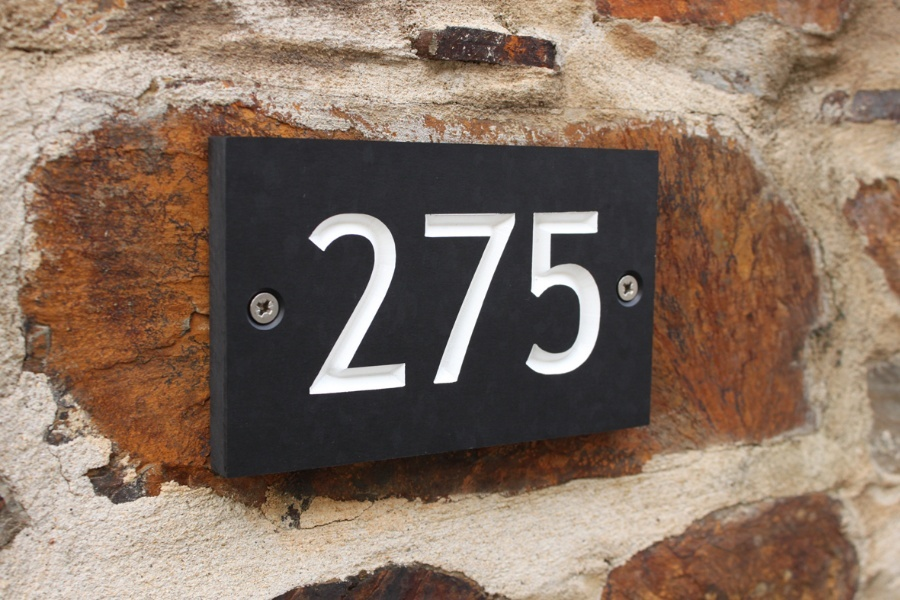text: (321, 205, 336, 397), (337, 205, 352, 397), (353, 205, 368, 397), (369, 205, 384, 397), (385, 205, 400, 397), (401, 205, 416, 397), (417, 205, 432, 397), (433, 205, 448, 397), (449, 205, 464, 397), (465, 205, 480, 397), (481, 205, 496, 397), (497, 205, 512, 397), (513, 205, 528, 397), (529, 205, 544, 397), (545, 205, 560, 397), (561, 205, 576, 397), (577, 205, 592, 397), (306, 205, 320, 397), (593, 205, 604, 397)
